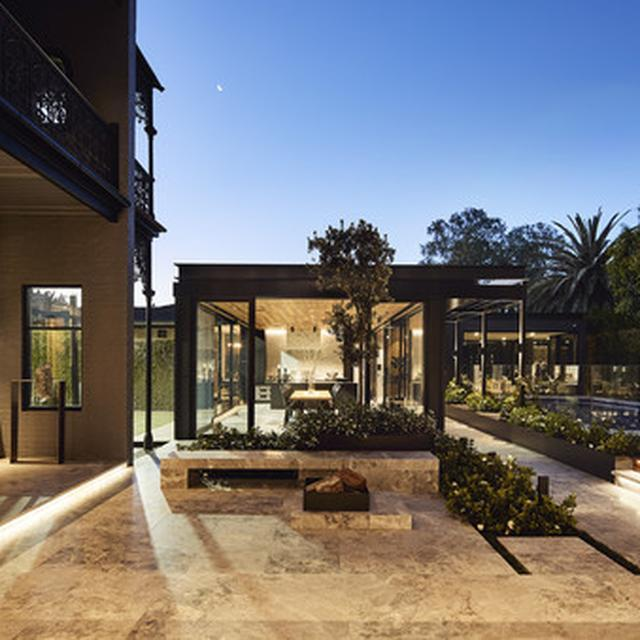building: (0, 0, 169, 538), (170, 261, 598, 448)
